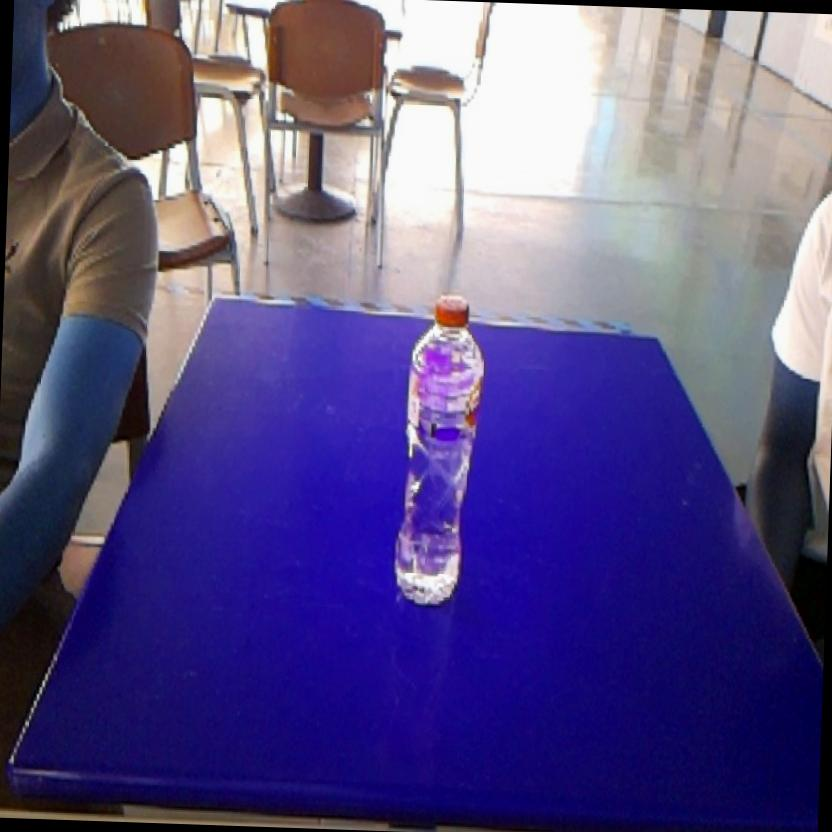good: (388, 275, 493, 619)
